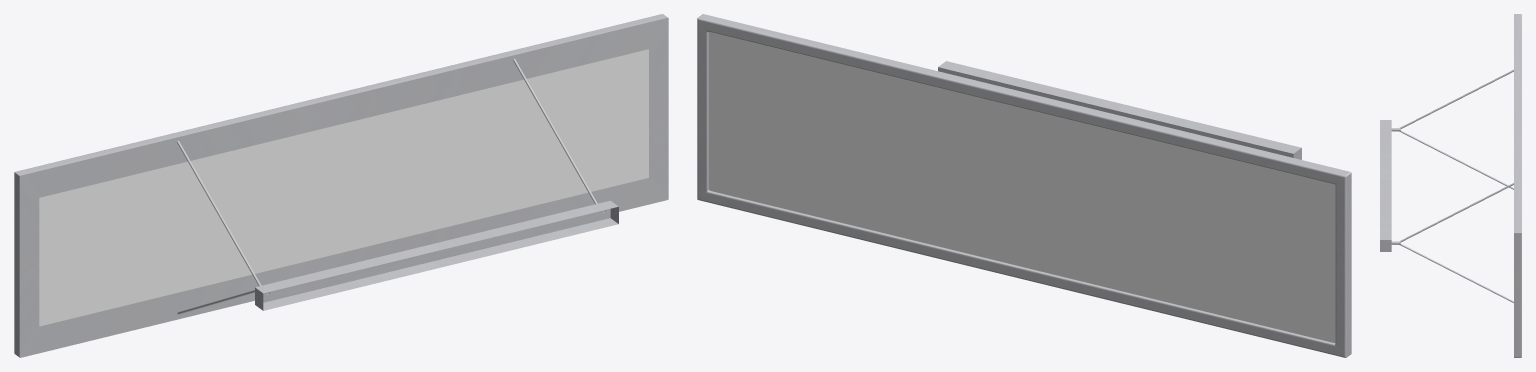
File: SM_Lamp_01.obj
The picture shows the model from 3 angles, left to right: view 1: azimuth 30°, elevation 25°; view 2: azimuth 150°, elevation 25°; view 3: azimuth 270°, elevation 25°; orthographic projection. The views are drawn at different scales.
Parts seen in each view (by area): view 1: SM_Lamp_3; view 2: SM_Lamp_3; view 3: SM_Lamp_3.
Boxes of the visible parts, left/top/right/bottom form: SM_Lamp_3: left=14, top=14, right=668, bottom=357; SM_Lamp_3: left=697, top=14, right=1351, bottom=357; SM_Lamp_3: left=1380, top=14, right=1521, bottom=357.
Bounding box in the file's own units: 1.2 × 0.3224 × 0.3296.
Materials: 2 (1 with a texture image).
